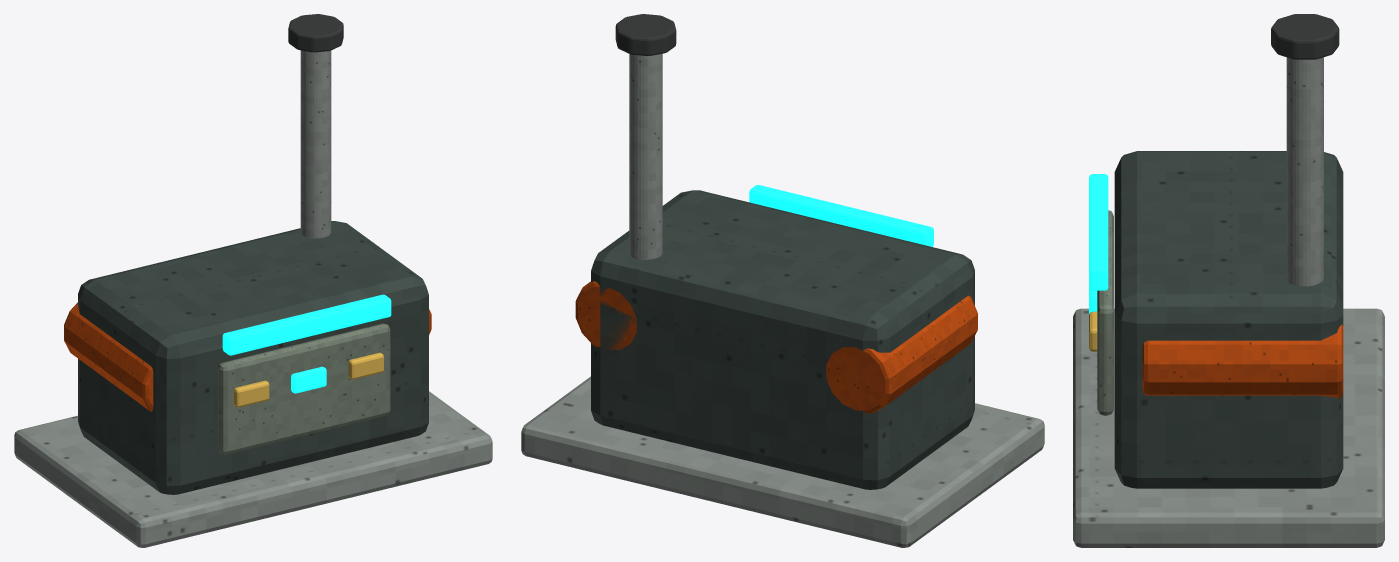
The model's file is ff_aux_01_v1.glb.
3 views of the same model, side by side, from view 1: azimuth 30°, elevation 25°; view 2: azimuth 150°, elevation 25°; view 3: azimuth 270°, elevation 25° (orthographic). The views are drawn at different scales.
Visible parts, largest first — view 1: generator_body, generator_skid, service_panel, exhaust_stack, powered_status_bar, generator_coil_-1.15, exhaust_cap, panel_meter_0, panel_meter_1, panel_meter_2; view 2: generator_body, generator_skid, generator_coil_-1.15, exhaust_stack, powered_status_bar, generator_coil_1.15, exhaust_cap; view 3: generator_body, generator_skid, generator_coil_1.15, exhaust_stack, exhaust_cap, service_panel, powered_status_bar.
Part boxes in pixels (bbox=[...]): generator_body: bbox=[78, 221, 428, 494]; generator_skid: bbox=[14, 391, 492, 547]; service_panel: bbox=[218, 323, 390, 454]; exhaust_stack: bbox=[300, 50, 331, 238]; powered_status_bar: bbox=[222, 294, 391, 355]; generator_coil_-1.15: bbox=[64, 302, 153, 411]; exhaust_cap: bbox=[288, 14, 343, 52]; panel_meter_0: bbox=[233, 380, 269, 407]; panel_meter_1: bbox=[291, 366, 326, 393]; panel_meter_2: bbox=[348, 352, 383, 379]; generator_body: bbox=[591, 190, 974, 489]; generator_skid: bbox=[521, 376, 1044, 547]; generator_coil_-1.15: bbox=[826, 295, 977, 413]; exhaust_stack: bbox=[629, 53, 662, 260]; powered_status_bar: bbox=[749, 185, 933, 246]; generator_coil_1.15: bbox=[575, 281, 636, 349]; exhaust_cap: bbox=[615, 14, 676, 55]; generator_body: bbox=[1114, 151, 1343, 488]; generator_skid: bbox=[1073, 308, 1384, 547]; generator_coil_1.15: bbox=[1142, 324, 1343, 398]; exhaust_stack: bbox=[1286, 57, 1323, 286]; exhaust_cap: bbox=[1271, 14, 1339, 59]; service_panel: bbox=[1097, 210, 1113, 415]; powered_status_bar: bbox=[1089, 174, 1108, 290].
Size of the model in its own units: 3.6 by 3.78 by 2.25.
7 materials, 4 textured.
